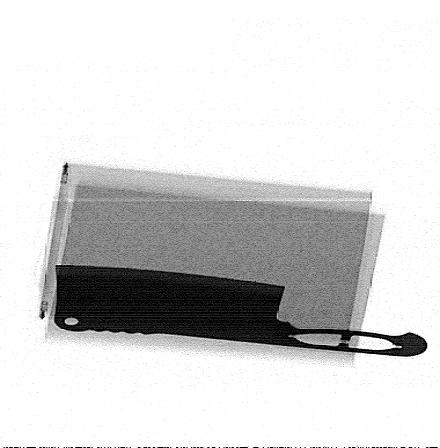Knife: (54, 264, 428, 357)
